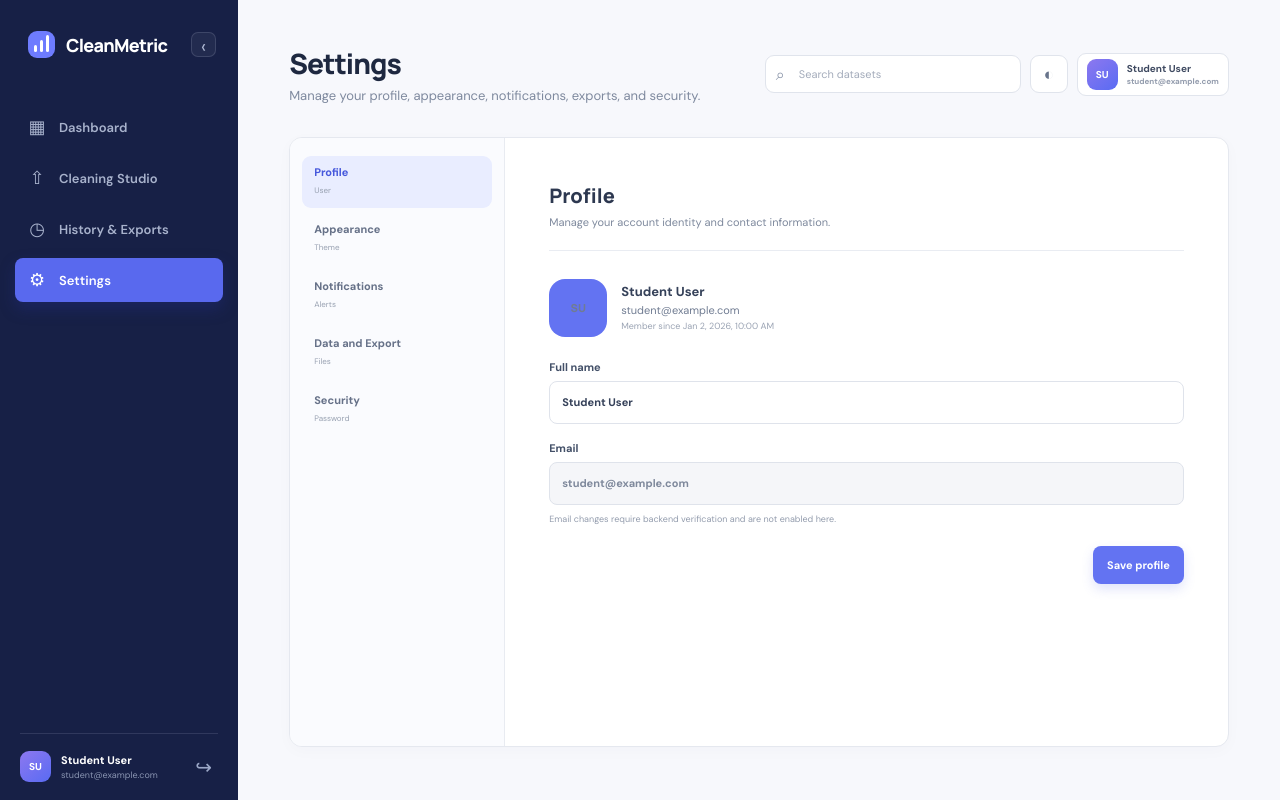
Test case: settings page › updates export and history page-size preferences
Click the button "Data and Export Files": {"x": 397, "y": 353} [302,327,492,379]
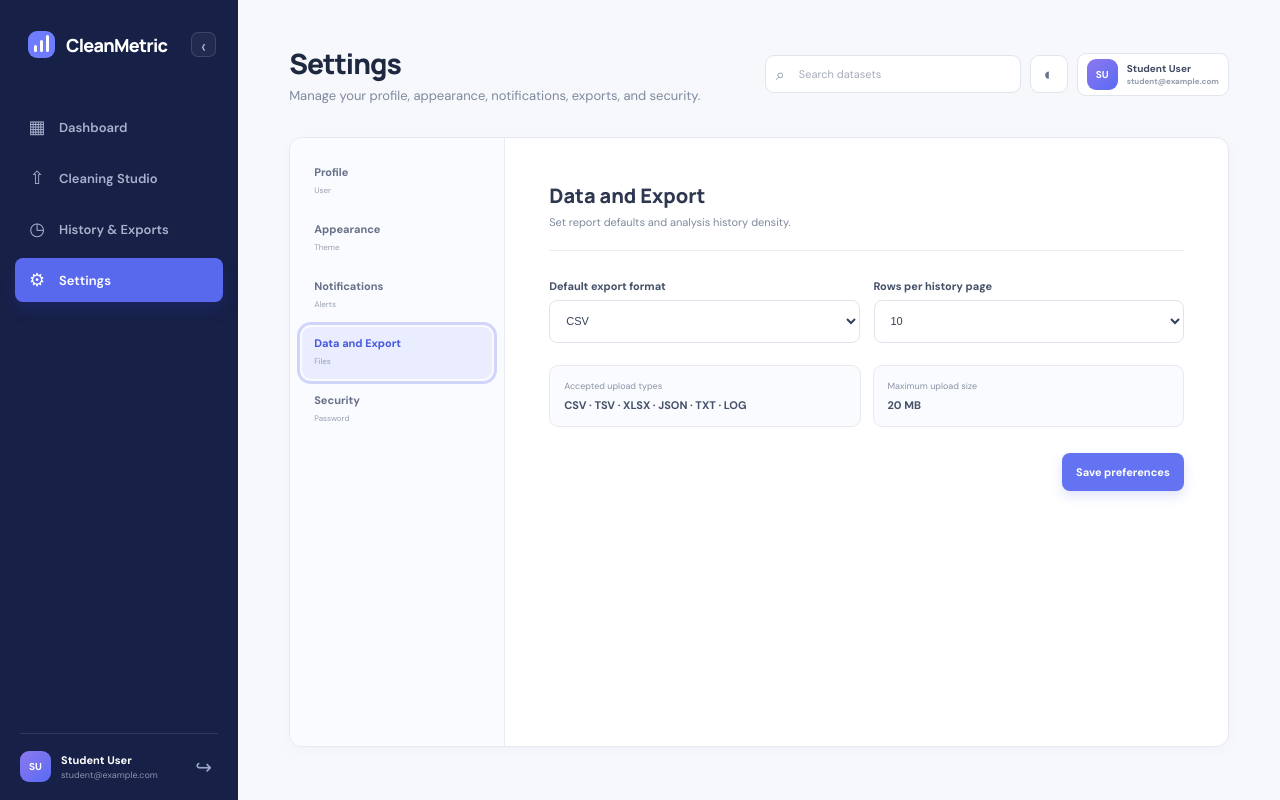
Select "Excel workbook" in the dropdown labelled "Default export format": {"x": 704, "y": 321} [549,300,860,342]
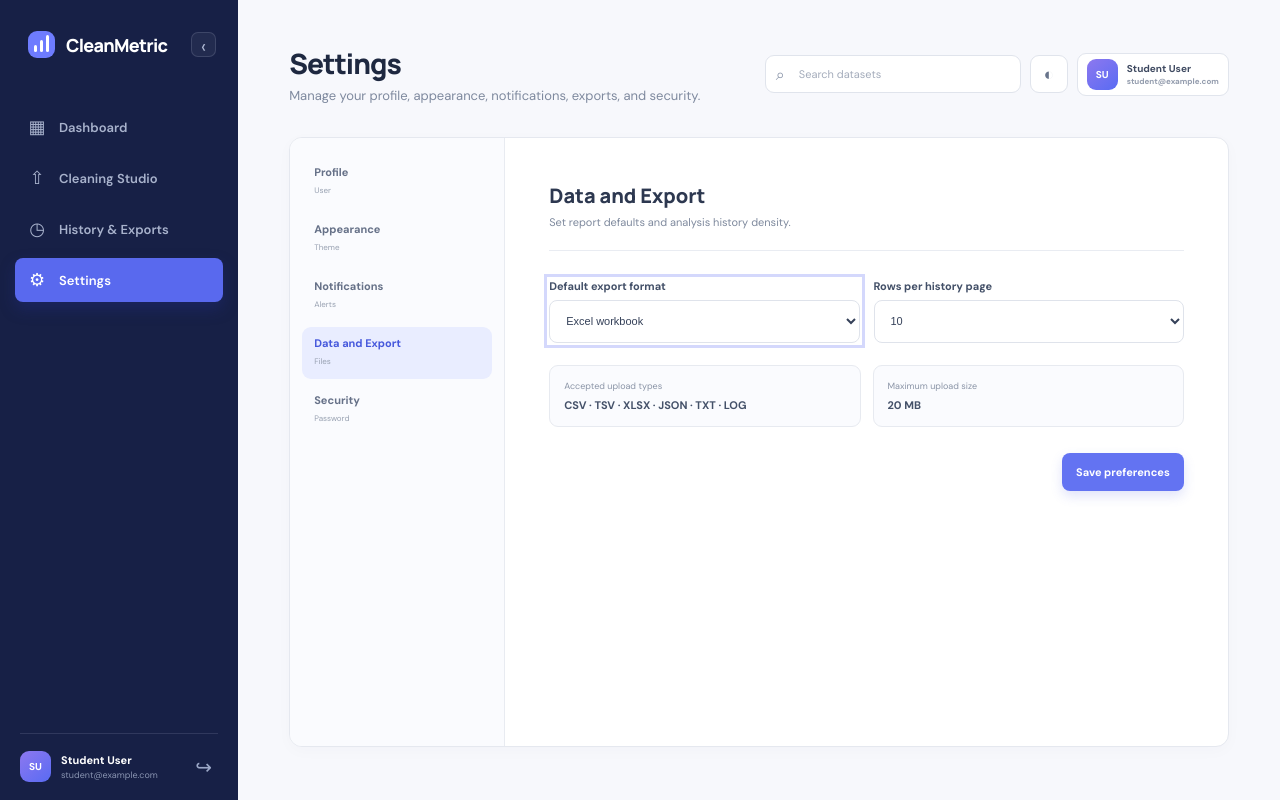
Select "20" in the dropdown labelled "Rows per history page": {"x": 1029, "y": 321} [874,300,1184,342]
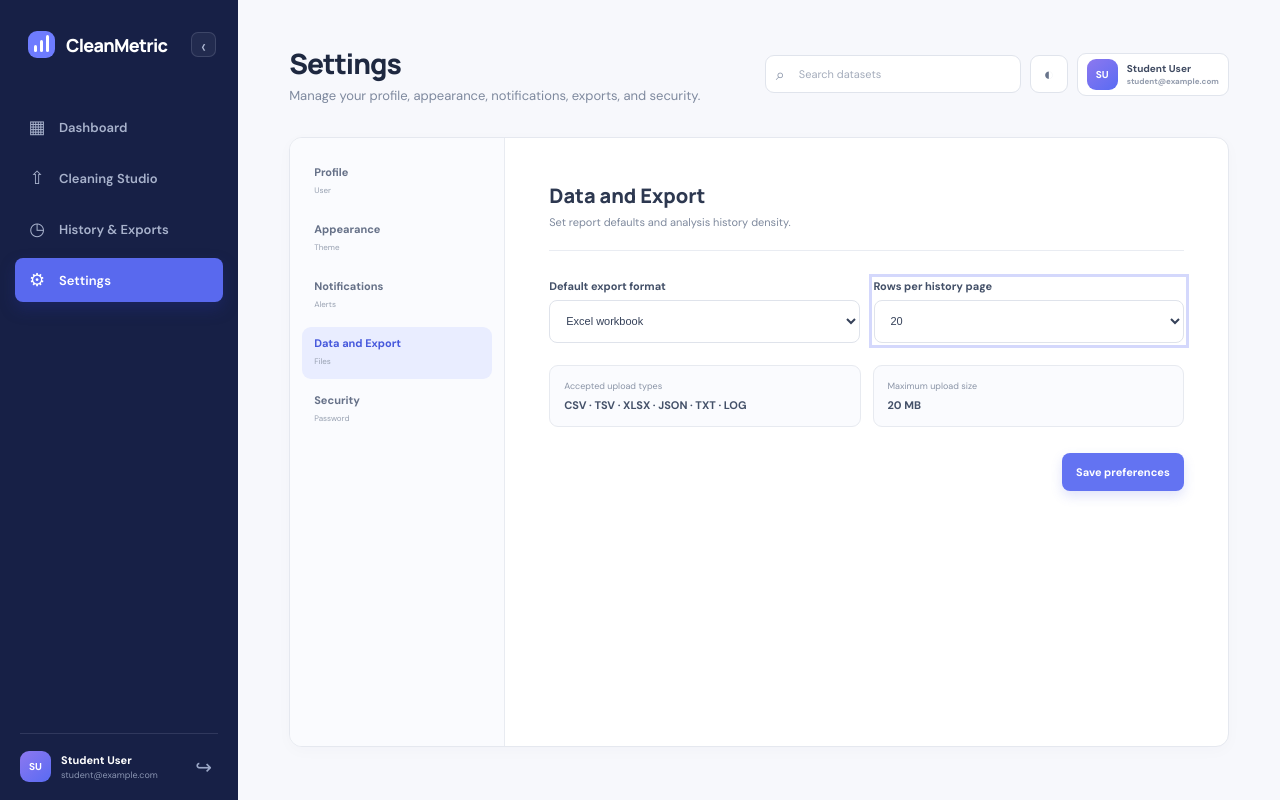
Click the button "Save preferences": {"x": 1123, "y": 472} [1062,452,1184,490]
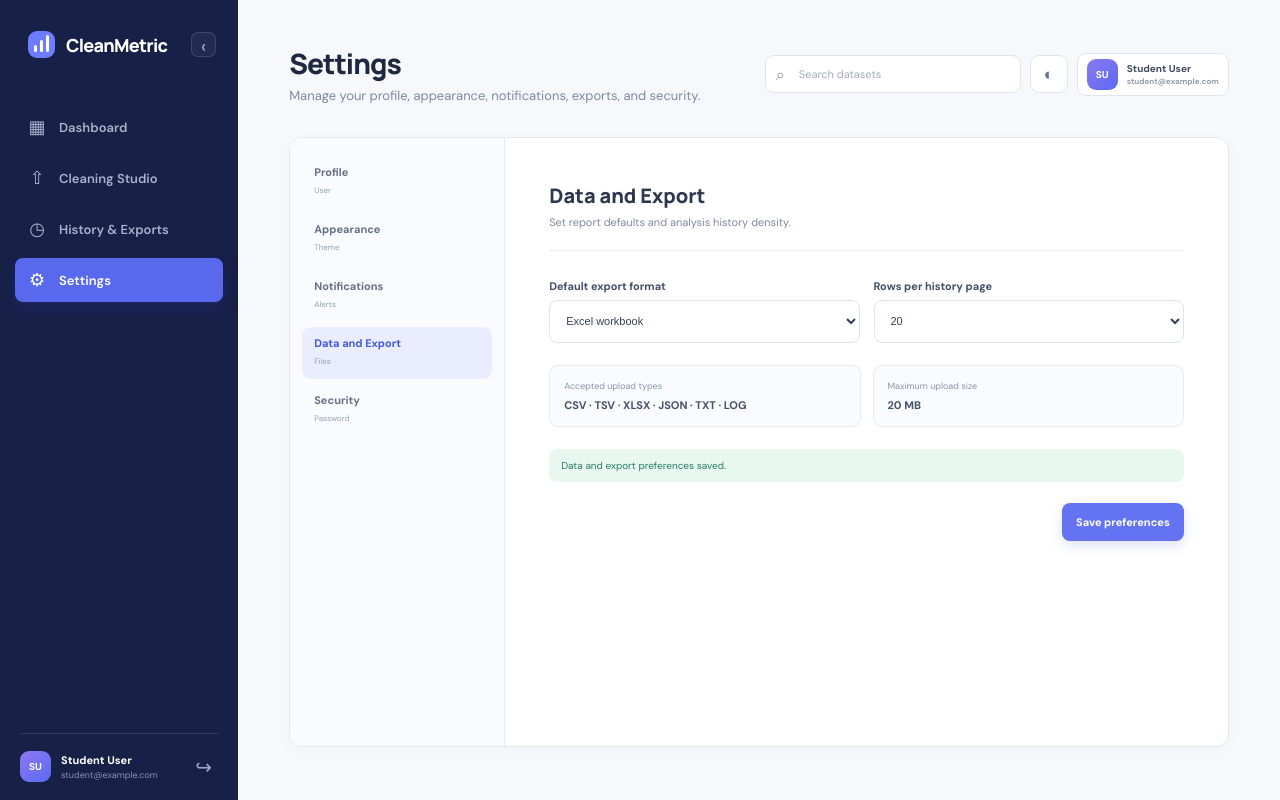
Check: the text "Data and export preferences saved." is shown, box [549,448,1184,482]
